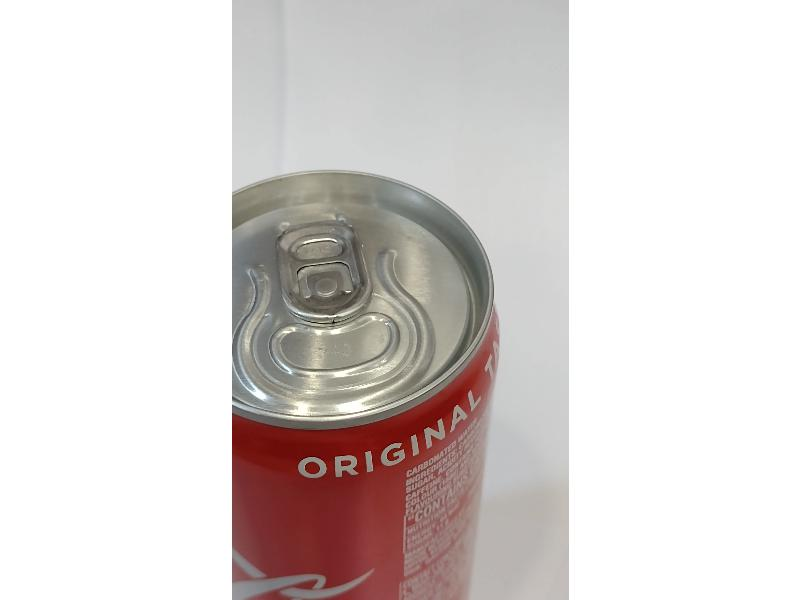can: (227, 153, 569, 600)
